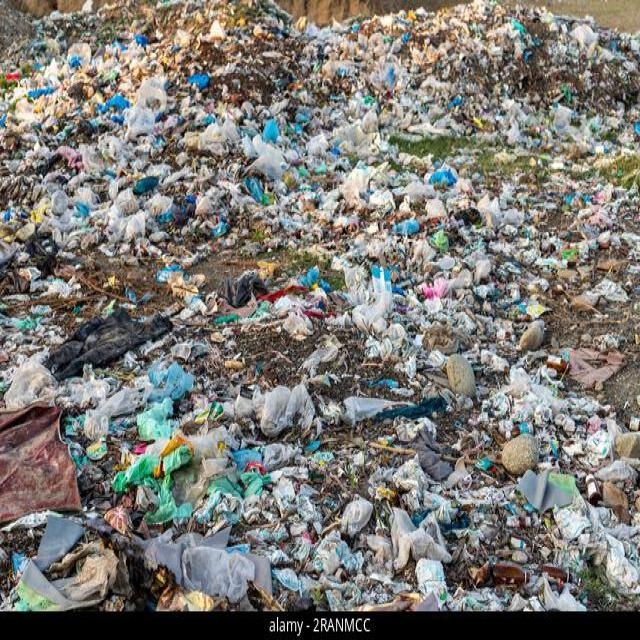plastic: (153, 362, 191, 404)
trash: (49, 37, 592, 295)
